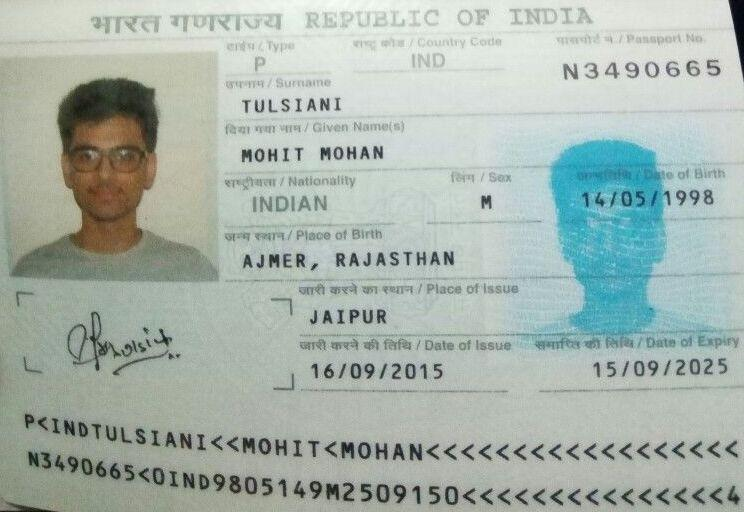DOB: (567, 182, 734, 216)
Surname: (235, 88, 354, 124)
country_code: (394, 39, 463, 75)
date_of_expiry: (574, 344, 741, 384)
date_of_issue: (303, 348, 468, 393)
details: (9, 402, 742, 507)
name: (220, 134, 460, 171)
nationality: (239, 187, 364, 221)
passport_no: (549, 48, 729, 92)
photo: (15, 54, 216, 279)
place_of_birth: (233, 242, 494, 278)
place_of_issue: (287, 299, 447, 332)
sex: (459, 188, 531, 218)
sign: (39, 297, 267, 380)
type: (237, 50, 300, 79)
